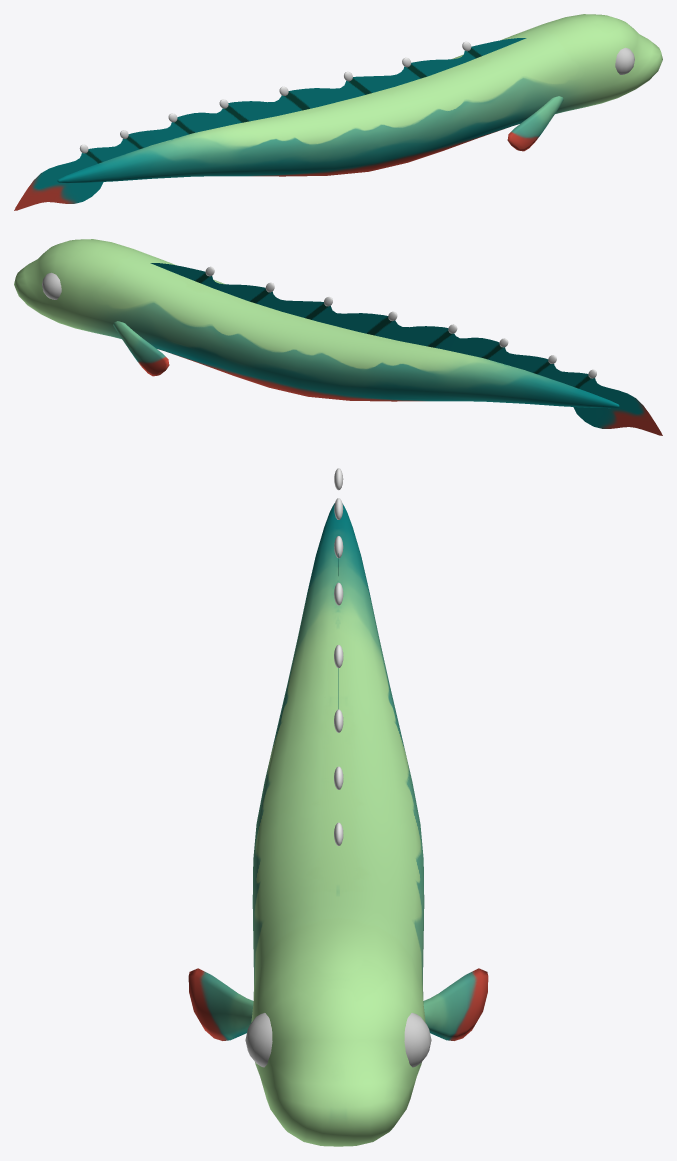
File: EelModelWhitebox.fbx
3 views of the same model, one above another, from view 1: azimuth 30°, elevation 25°; view 2: azimuth 150°, elevation 25°; view 3: azimuth 270°, elevation 25° (orthographic). The views are drawn at different scales.
Visible parts, largest first — view 1: Eel Retopo, Fin, Side fins, Eyes.002; view 2: Eel Retopo, Fin, Side fins, Eyes.002; view 3: Eel Retopo, Side fins, Eyes.002.
Boxes of the visible parts, x1,y1,x2,y2 form: Eel Retopo: [57, 14, 662, 183]; Fin: [14, 38, 526, 210]; Side fins: [507, 96, 563, 151]; Eyes.002: [615, 47, 634, 74]; Eel Retopo: [14, 239, 619, 408]; Fin: [150, 263, 662, 435]; Side fins: [113, 321, 169, 376]; Eyes.002: [42, 272, 61, 299]; Eel Retopo: [251, 503, 425, 1146]; Side fins: [188, 968, 488, 1040]; Eyes.002: [245, 1013, 431, 1067].
Size of the model in its own units: 805 by 122 by 162.
